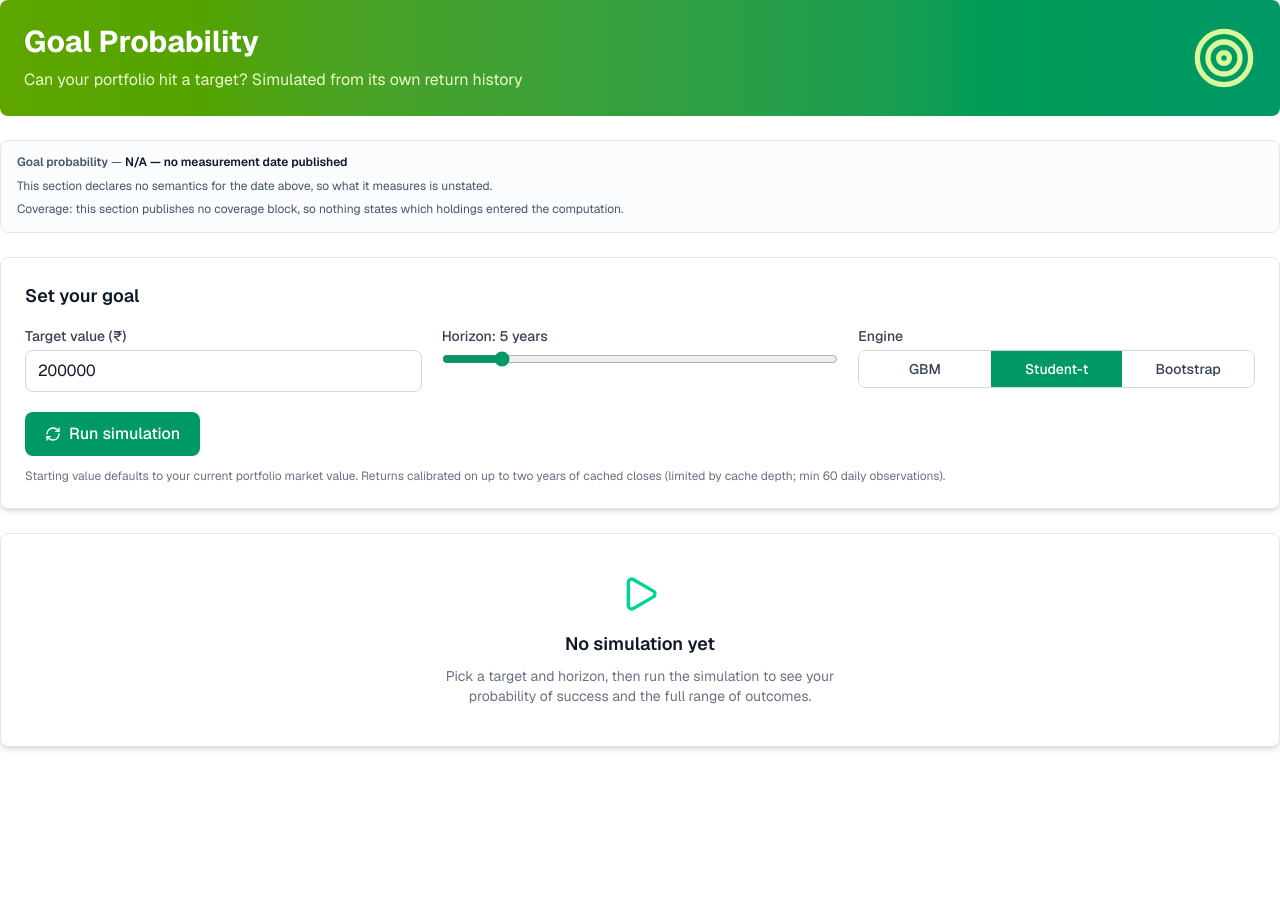
Scenario: SectionProvenance — as_of_semantics renders wherever the backend publishes it › monte-carlo states that no semantics is declared instead of showing a bare date
This screenshot has width=1280, height=900.
Click the button "Run simulation": (113, 434) [25,412,200,456]
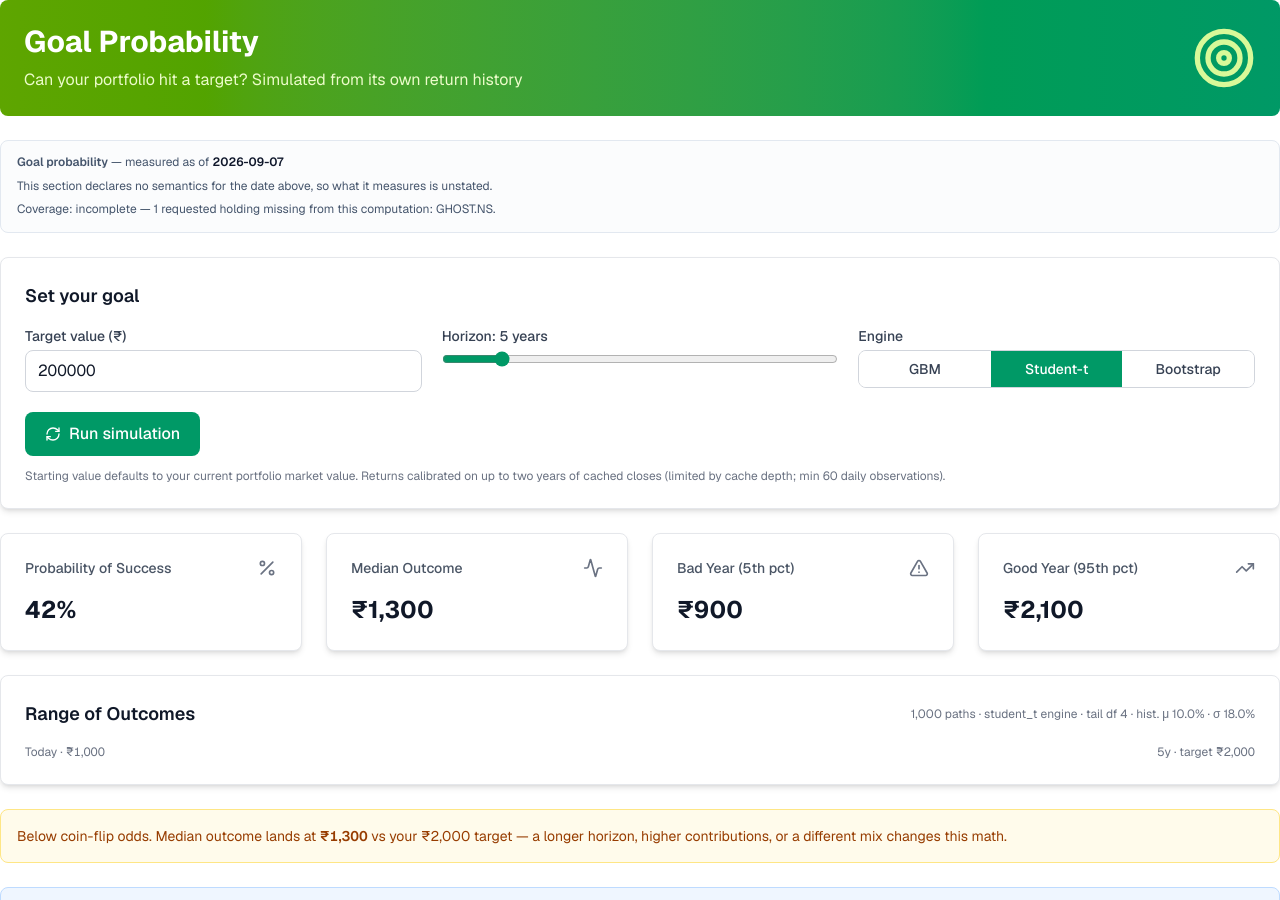
Expected: the element with test id "section-provenance" is shown, [0,140,1279,232]
Now the element with test id "provenance-as-of" shows "2026-09-07", box [212,154,283,170]
